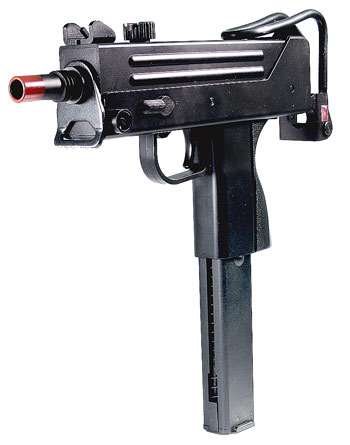rifle: (11, 5, 331, 426)
